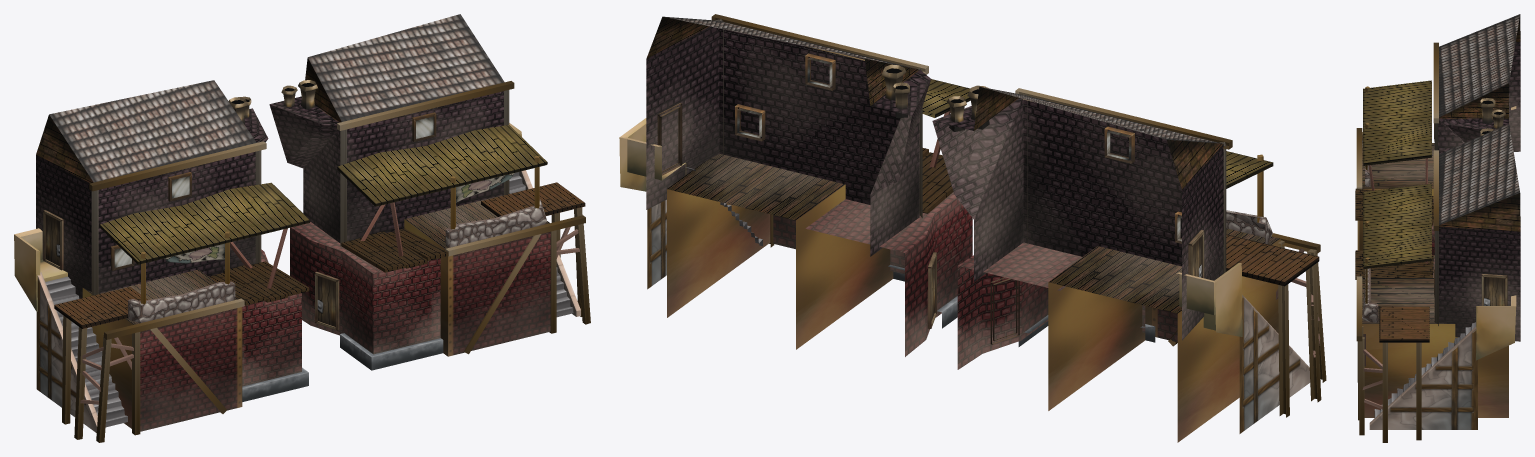
Rendered from bdg_generic1.fbx.
The picture shows the model from 3 angles, left to right: view 1: azimuth 30°, elevation 25°; view 2: azimuth 150°, elevation 25°; view 3: azimuth 270°, elevation 25°; orthographic projection. The views are drawn at different scales.
Parts seen in each view (by area): view 1: bdg_generic1, bdg_generic1FLIP, bdg_generic1FLIP_platform, bdg_generic1_platform; view 2: bdg_generic1, bdg_generic1FLIP, bdg_generic1_platform, bdg_generic1FLIP_platform; view 3: bdg_generic1FLIP, bdg_generic1, bdg_generic1_platform, bdg_generic1FLIP_platform.
Part boxes in pixels (bbox=[...]): bdg_generic1: bbox=[14, 80, 309, 442]; bdg_generic1FLIP: bbox=[269, 14, 590, 370]; bdg_generic1FLIP_platform: bbox=[337, 125, 547, 256]; bdg_generic1_platform: bbox=[99, 182, 309, 304]; bdg_generic1: bbox=[932, 85, 1326, 442]; bdg_generic1FLIP: bbox=[619, 14, 972, 356]; bdg_generic1_platform: bbox=[1226, 151, 1273, 222]; bdg_generic1FLIP_platform: bbox=[922, 79, 970, 168]; bdg_generic1FLIP: bbox=[1355, 124, 1520, 442]; bdg_generic1: bbox=[1355, 14, 1520, 258]; bdg_generic1_platform: bbox=[1363, 80, 1431, 190]; bdg_generic1FLIP_platform: bbox=[1363, 183, 1431, 303].
Size of the model in its own units: 2772 by 1338 by 875.
